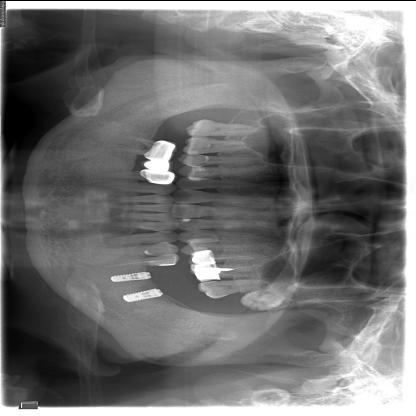ITI: (118, 287, 169, 304), (106, 269, 155, 283)
